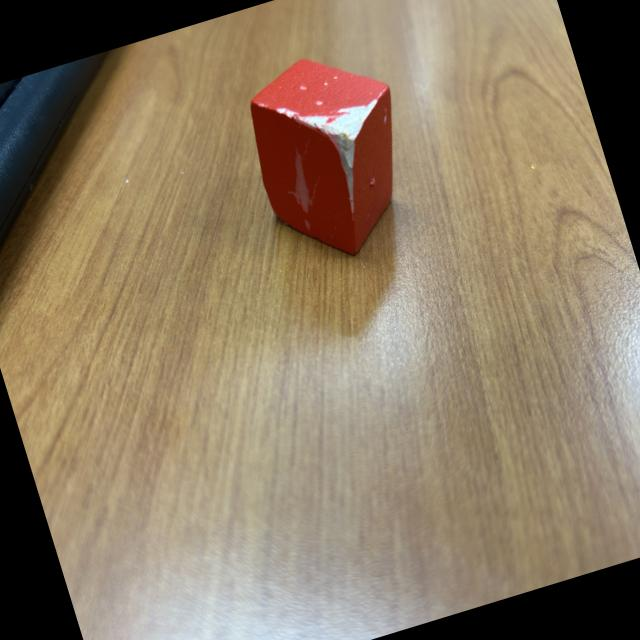broken: (229, 34, 434, 276)
